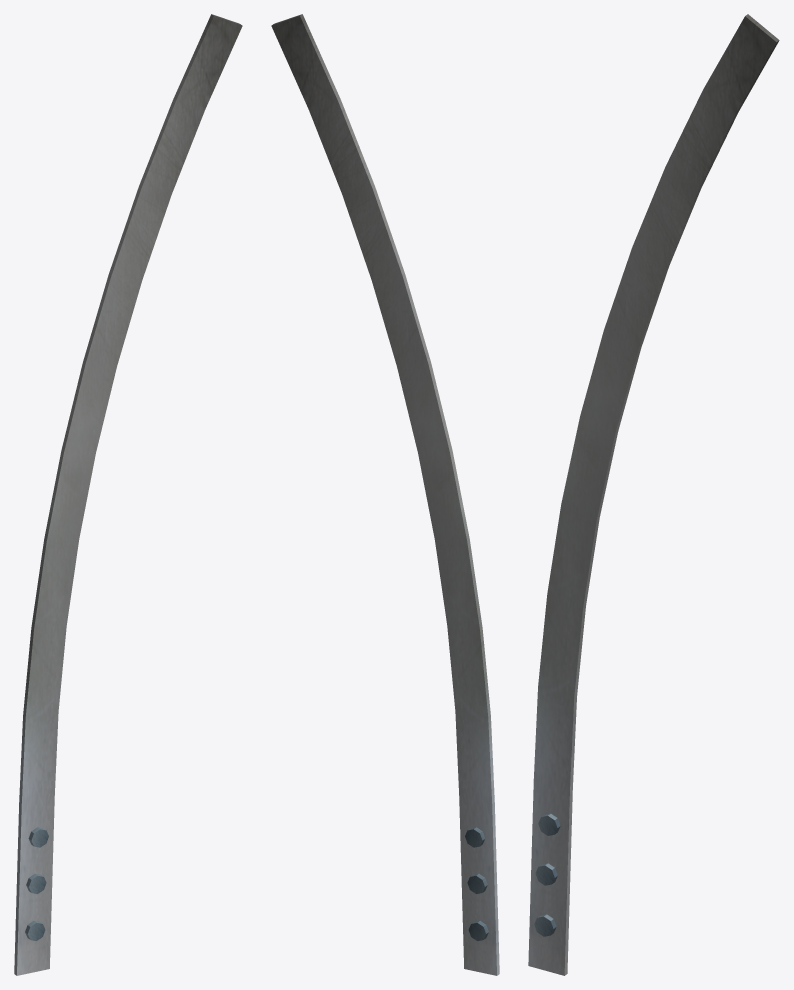
Rendered from blade_104.fbx.
The picture shows the model from 3 angles, left to right: view 1: azimuth 30°, elevation 25°; view 2: azimuth 150°, elevation 25°; view 3: azimuth 330°, elevation 25°; orthographic projection. The views are drawn at different scales.
Visible parts, largest first — view 1: blade_104; view 2: blade_104; view 3: blade_104.
Part boxes in pixels (<box>): blade_104: <box>14,14,242,975</box>; blade_104: <box>271,14,499,975</box>; blade_104: <box>528,14,779,975</box>.
Size of the model in its own units: 6.85 by 26.47 by 0.4345.
